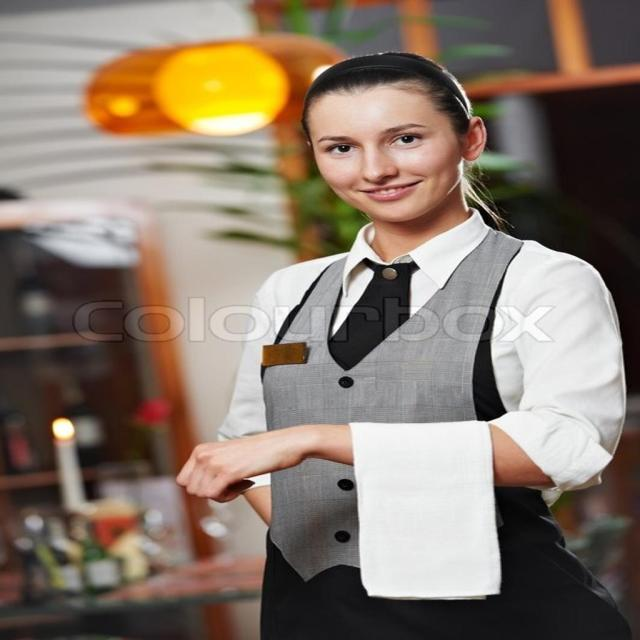Face: (314, 83, 467, 221)
